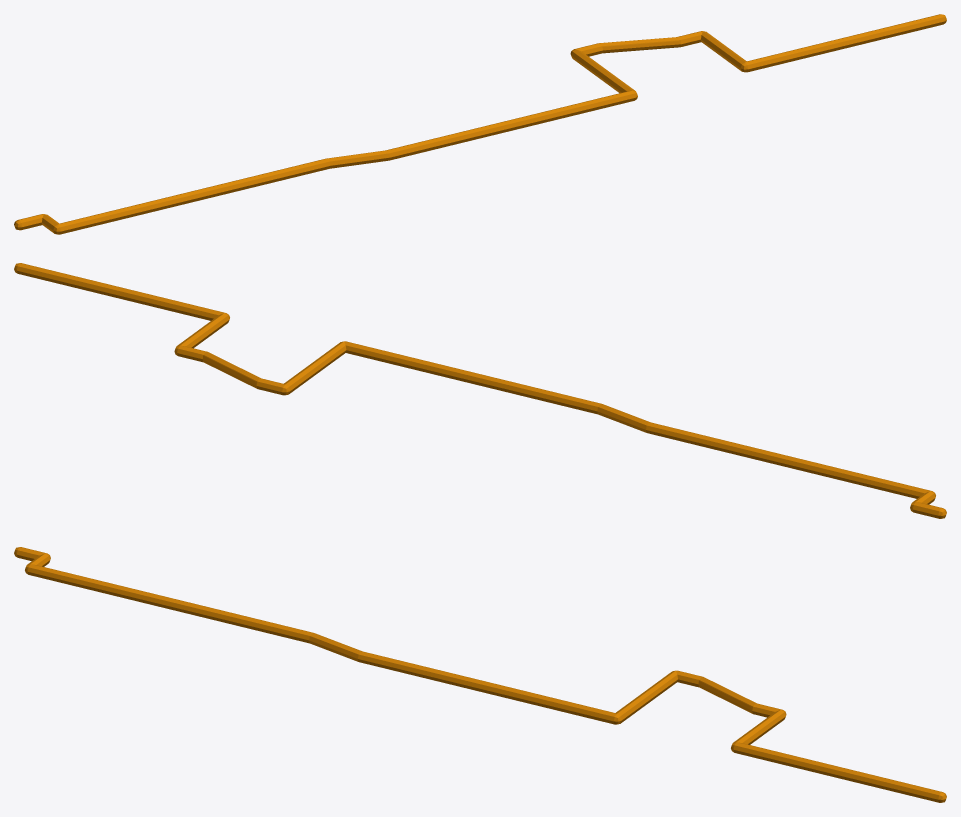
3 views of the same model, one above another, from view 1: azimuth 30°, elevation 25°; view 2: azimuth 150°, elevation 25°; view 3: azimuth 330°, elevation 25° (orthographic). The views are drawn at different scales.
Size of the model in its own units: 1861 by 20 by 220.
